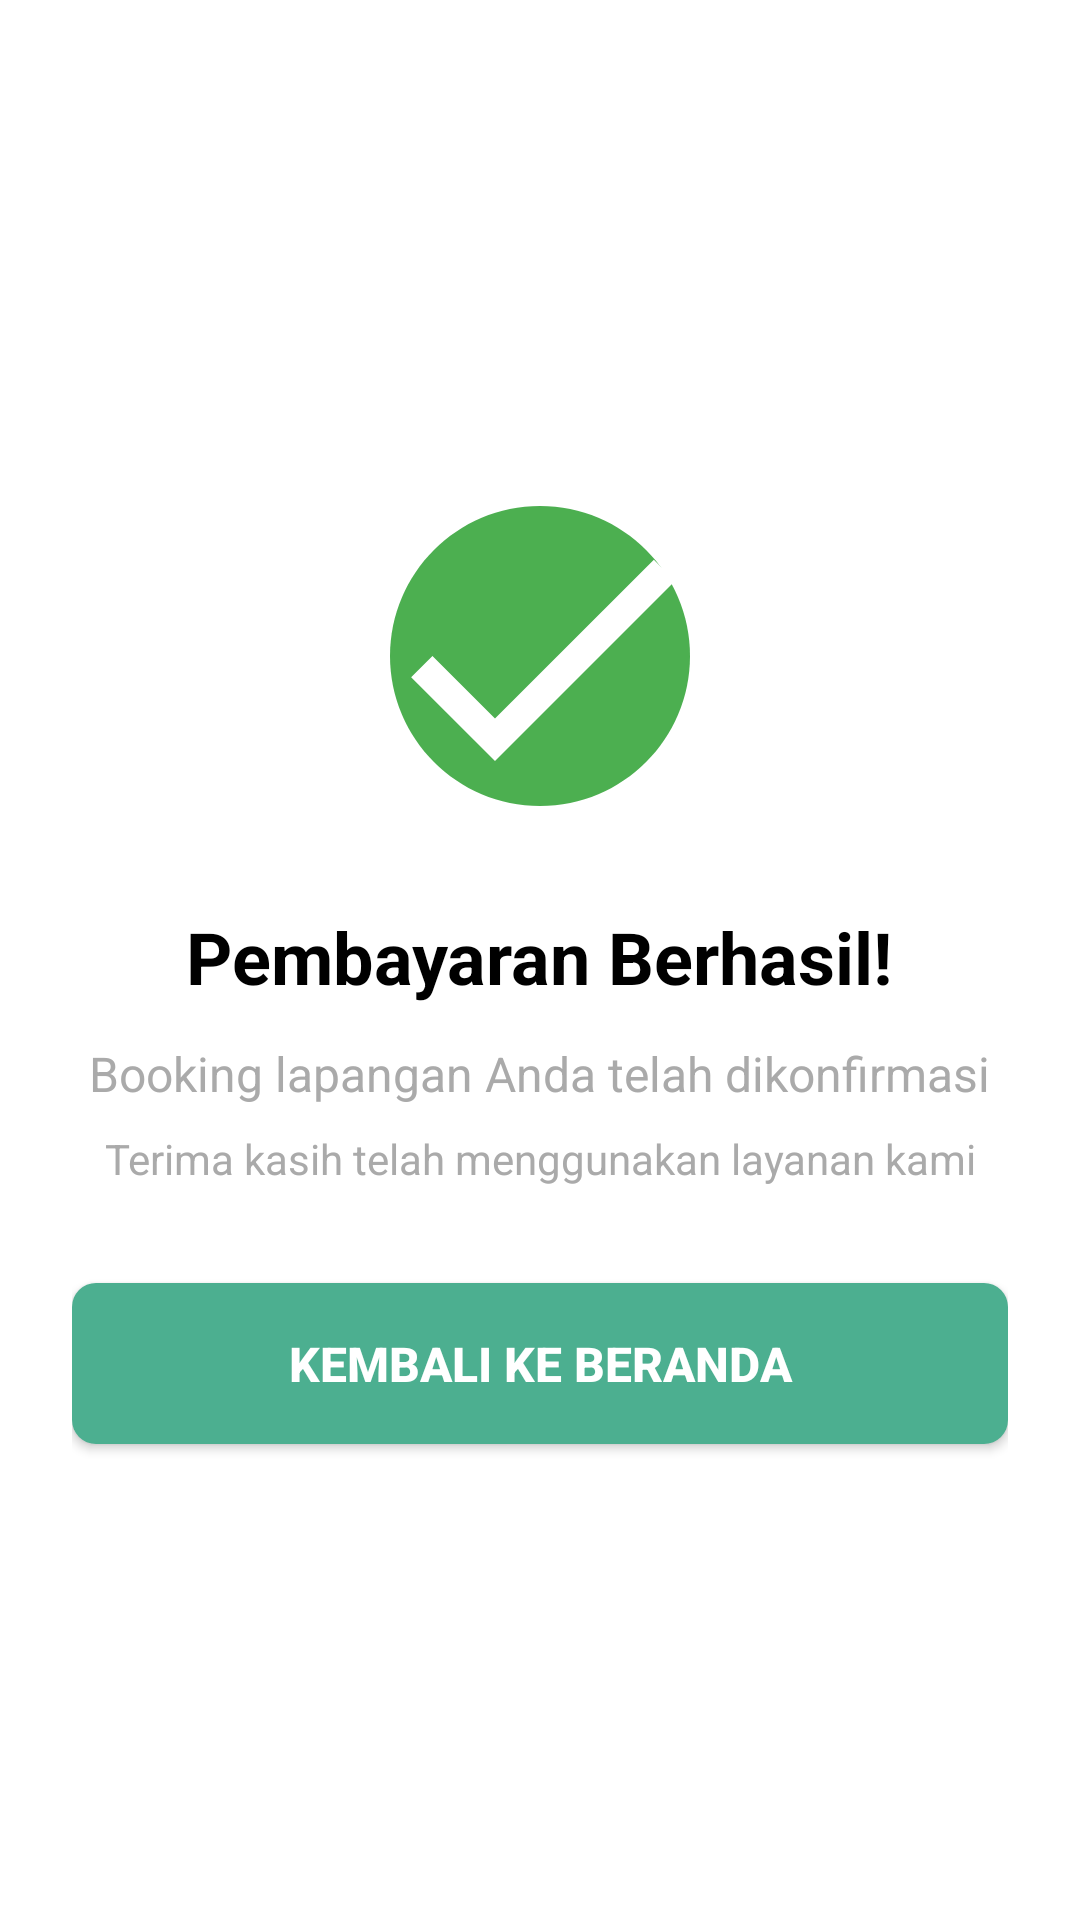

Screen size 1080*1920. Icon name, then its box in pixels as [x1,y1,x2,y2]:
Icon Sukses: [390,506,690,806]
